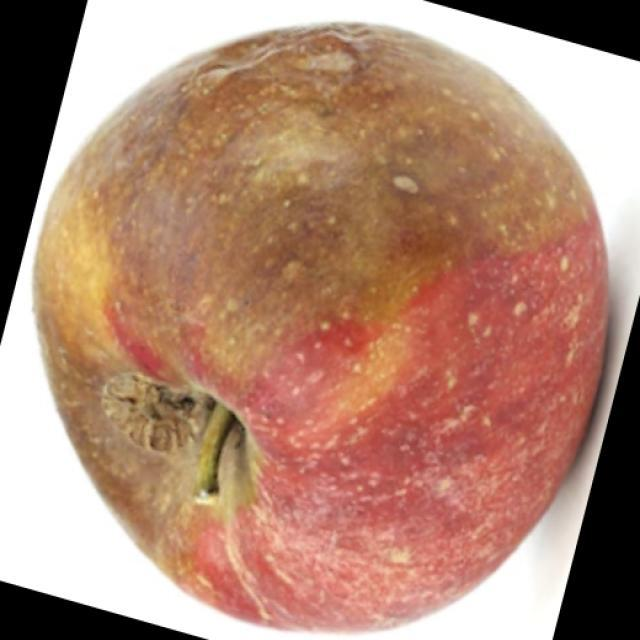Rotten: (71, 41, 603, 640)
